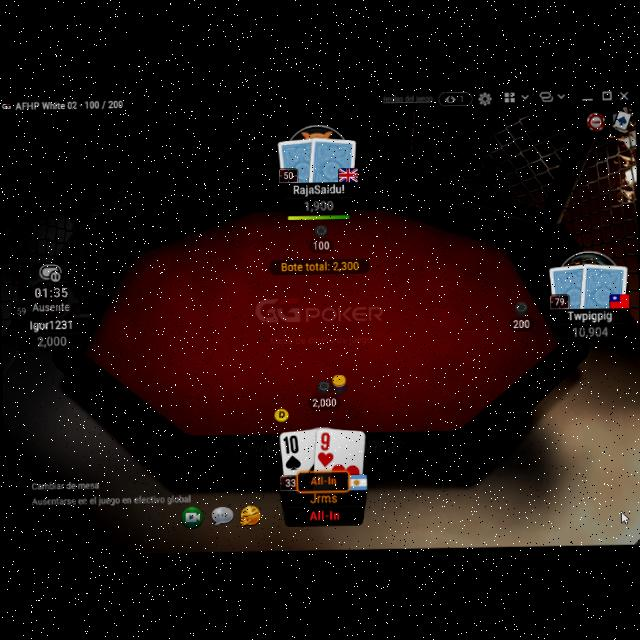9h: (316, 428, 334, 468)
Ts: (282, 430, 303, 469)
all_in_symbol: (308, 504, 342, 522)
bet_text: (310, 232, 330, 252), (310, 394, 337, 408), (511, 314, 531, 328)
card_back: (578, 258, 630, 310), (306, 132, 358, 184), (548, 260, 592, 308), (276, 134, 318, 182)
dealer: (272, 403, 291, 422), (330, 371, 346, 388)
pot_text: (280, 258, 360, 270)
stack_text: (303, 195, 335, 213), (571, 323, 609, 338), (36, 332, 68, 348)
